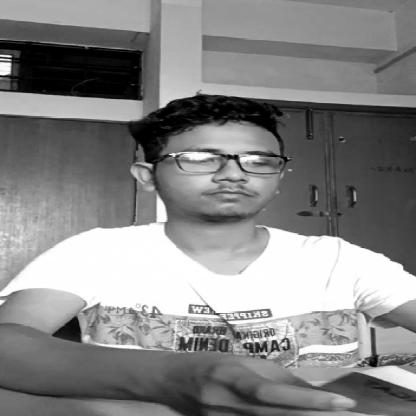Normal: (152, 113, 289, 226)
